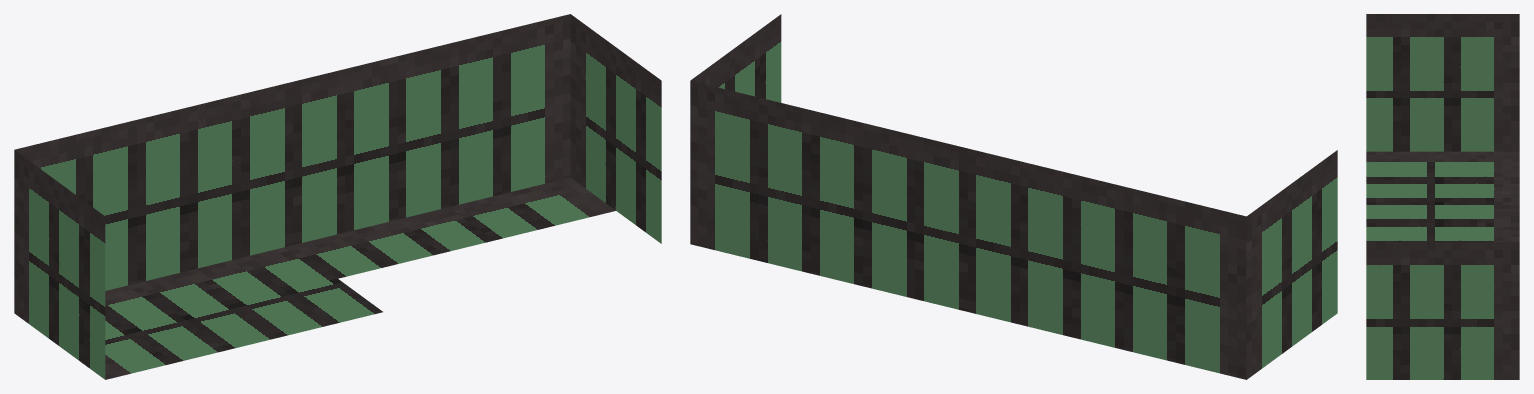
File: balcony-ladder-top.glb
The picture shows the model from 3 angles, left to right: view 1: azimuth 30°, elevation 25°; view 2: azimuth 150°, elevation 25°; view 3: azimuth 270°, elevation 25°; orthographic projection. The views are drawn at different scales.
Parts seen in each view (by area): view 1: balcony-ladder-top; view 2: balcony-ladder-top; view 3: balcony-ladder-top.
Boxes of the visible parts, x1,y1,x2,y2 form: balcony-ladder-top: [14, 14, 661, 379]; balcony-ladder-top: [690, 14, 1337, 379]; balcony-ladder-top: [1366, 14, 1519, 379].
Size of the model in its own units: 1 by 0.2808 by 0.2837.
1 material, 1 textured.
